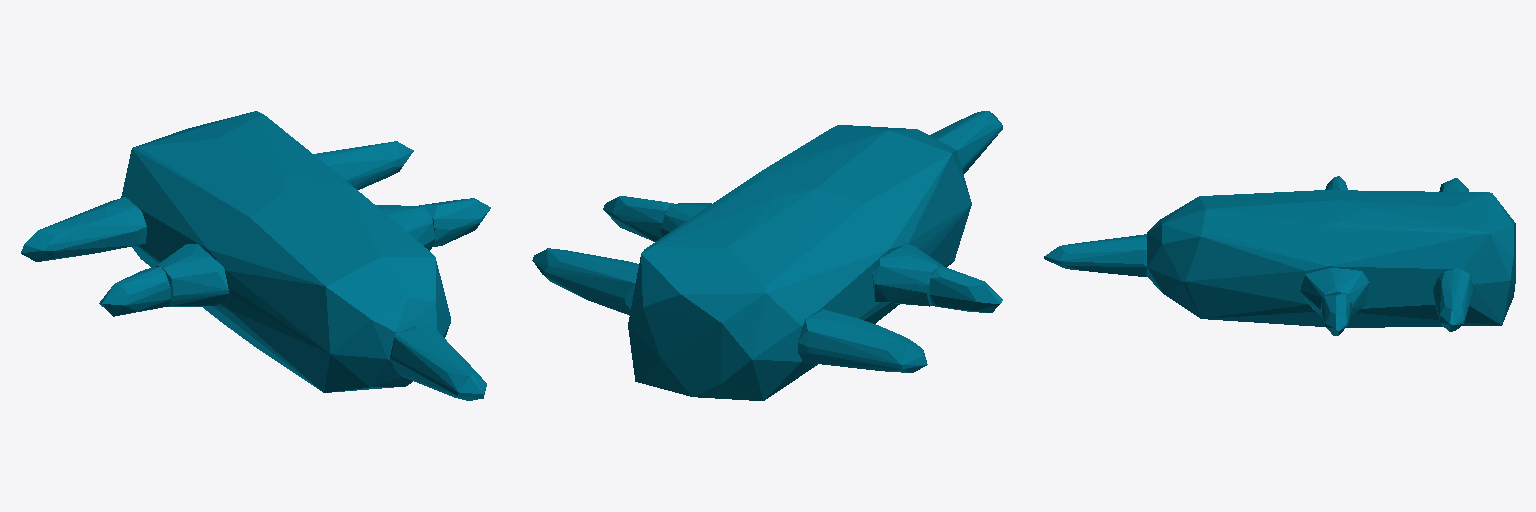
URDF robot description (blob874):
<robot name="blob874">
  <link name="random_obj_874">
    <contact>
      <lateral_friction value="1.0"/>
      <rolling_friction value="0.0"/>
      <inertia_scaling value="3.0"/>
      <contact_cfm value="0.0"/>
      <contact_erp value="1.0"/>
    </contact>
    <inertial>
      <origin rpy="0 0 0" xyz="0 0 0"/>
      <mass value="0.1"/>
      <inertia ixx="1" ixy="0" ixz="0" iyy="1" iyz="0" izz="0"/>
    </inertial>
    <visual>
      <origin rpy="0 0 0" xyz="0 0 0"/>
      <geometry>
        <mesh filename="874.obj" scale="0.015 0.015 0.015"/>
      </geometry>
      <material name="blockmat">
        <color rgba="0.04 0.50 0.60 1"/>
      </material>
    </visual>
    <collision>
      <origin rpy="0 0 0" xyz="0 0 0"/>
      <geometry>
        <mesh filename="874.obj" scale="0.015 0.015 0.015"/>
      </geometry>
    </collision>
  </link>
</robot>

--- Render facts (derived) ---
The picture shows the robot from 3 angles, left to right: view 1: azimuth 30°, elevation 25°; view 2: azimuth 150°, elevation 25°; view 3: azimuth 270°, elevation 25°; orthographic projection.
Robot: blob874 — 1 links, 0 joints (none); root link random_obj_874; default pose: all joints at 0.
Visible links, largest first — view 1: random_obj_874; view 2: random_obj_874; view 3: random_obj_874.
Boxes of the visible links, bbox=[...] form: random_obj_874: bbox=[21, 111, 490, 400]; random_obj_874: bbox=[532, 111, 1002, 400]; random_obj_874: bbox=[1044, 176, 1515, 335].
Size in the robot's own frame: 0.091 by 0.1213 by 0.0312 metres.
1 mesh visuals loaded from 1 distinct referenced files (1 OBJ).